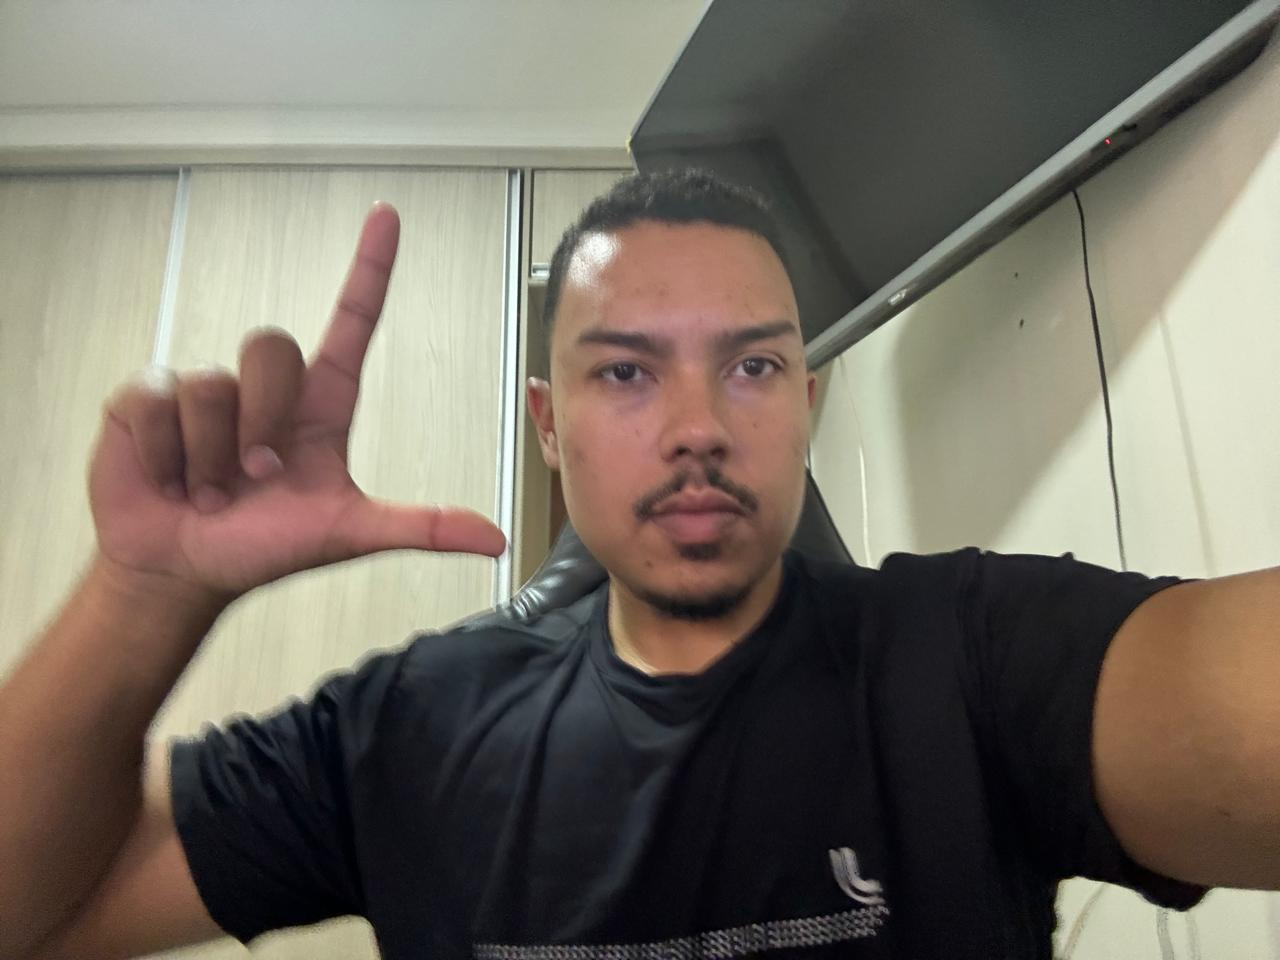l: (82, 190, 512, 601)
